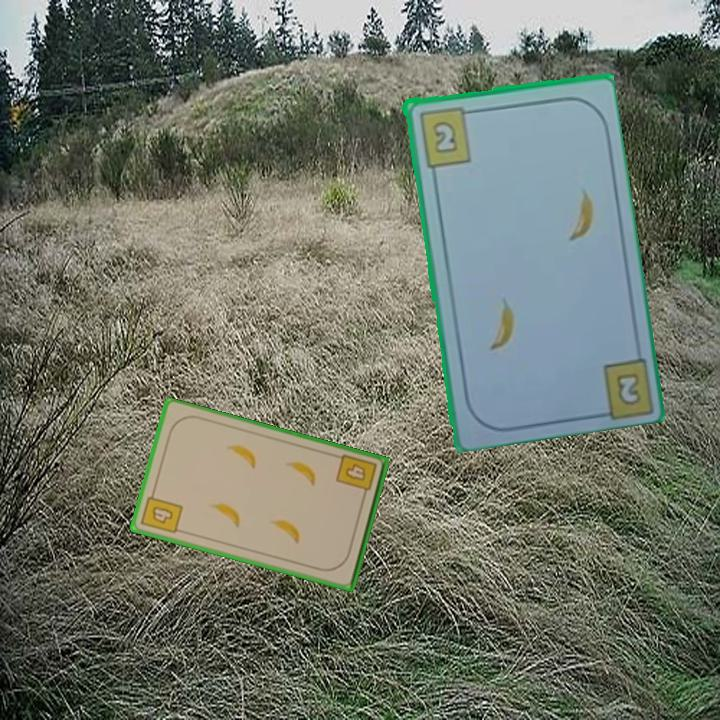2b: (415, 102, 476, 170), (615, 373, 640, 405)
4b: (333, 450, 380, 502), (137, 487, 185, 537)
